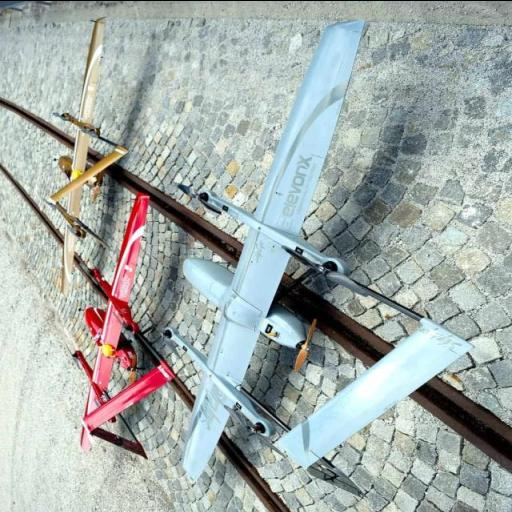uav: (171, 18, 473, 506)
